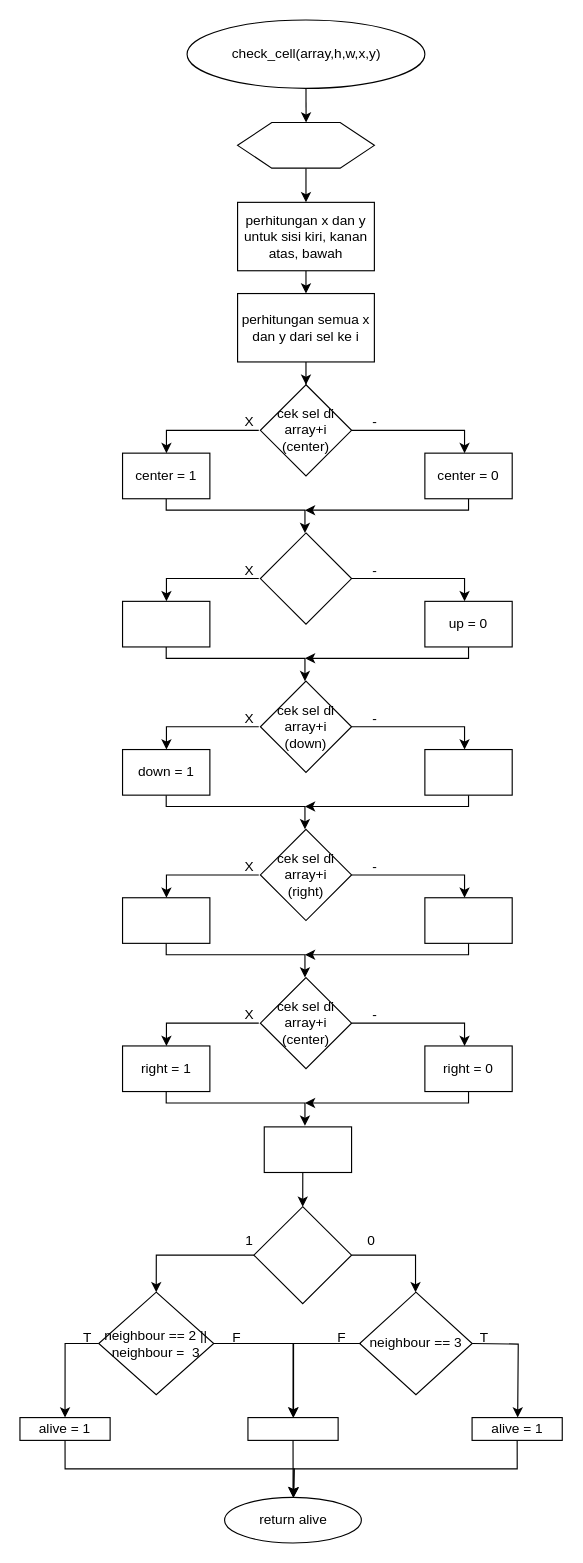
This 583x1563 diagram has some shape labels left out. The shapes that lost their labels are listed below. From the top down, each one's centre as x and y in pixels, then its label:
point (305, 144): Inisialisasi
point (305, 578): cek sel di array+i (up)
point (165, 623): up = 1
point (468, 771): down = 0
point (165, 920): left = 1
point (468, 920): left = 0
point (307, 1149): neighbour = right + left + up + down
point (302, 1255): check center
point (292, 1428): alive = 0
